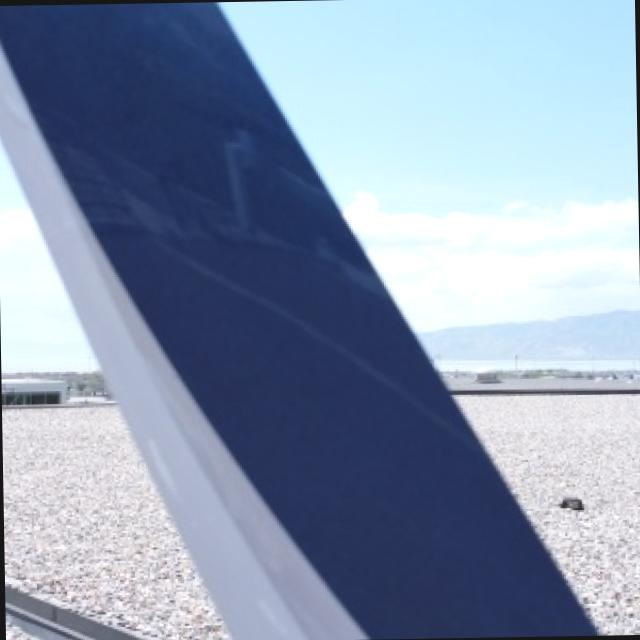healthy: (0, 2, 594, 639)
